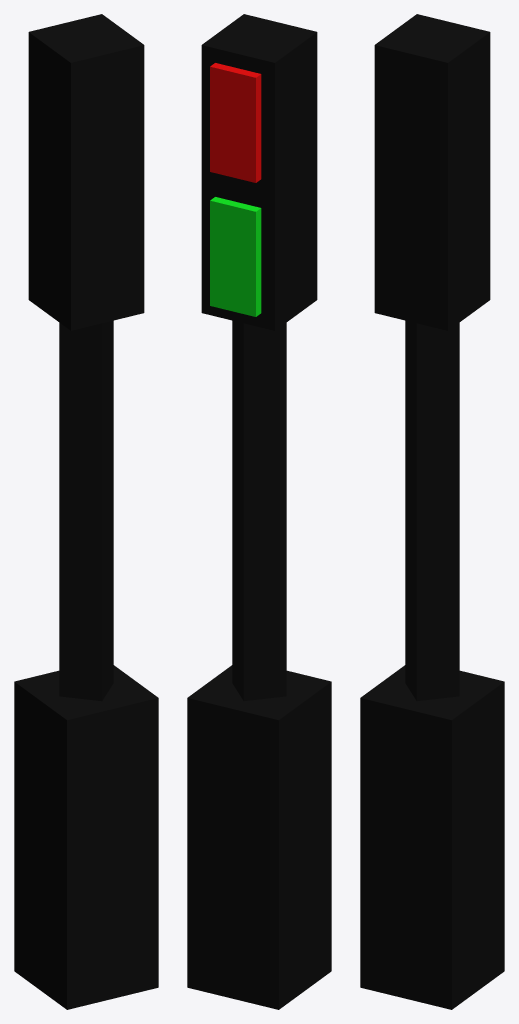
Rendered from TrafficLight.FBX.
The picture shows the model from 3 angles, left to right: view 1: azimuth 30°, elevation 25°; view 2: azimuth 150°, elevation 25°; view 3: azimuth 330°, elevation 25°; orthographic projection.
Parts seen in each view (by area): view 1: TrafficLight; view 2: TrafficLight; view 3: TrafficLight.
Boxes of the visible parts, left/top/right/bottom form: TrafficLight: left=14, top=14, right=158, bottom=1009; TrafficLight: left=187, top=14, right=331, bottom=1009; TrafficLight: left=360, top=14, right=504, bottom=1009.
Size of the model in its own units: 1.97 by 19.33 by 1.97.
